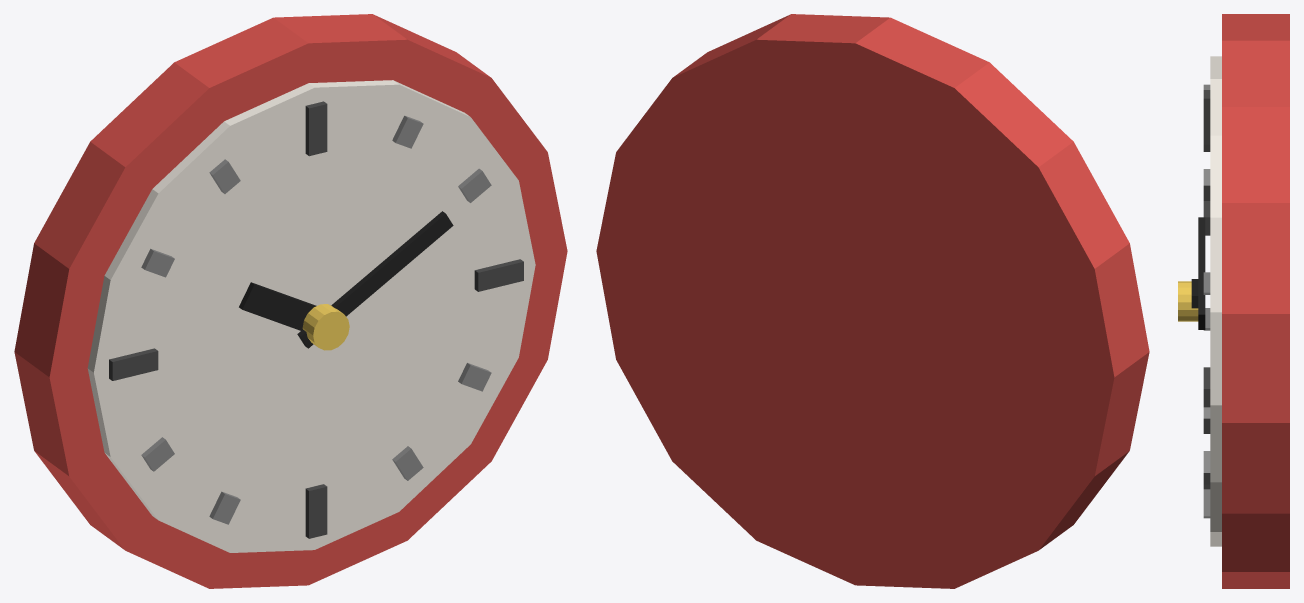
File: wall_clock.glb
3 views of the same model, side by side, from view 1: azimuth 30°, elevation 25°; view 2: azimuth 150°, elevation 25°; view 3: azimuth 270°, elevation 25° (orthographic). The views are drawn at different scales.
Visible parts, largest first — view 1: wall_clock; view 2: wall_clock; view 3: wall_clock.
Boxes of the visible parts, <box> form: wall_clock: <box>14,14,567,588</box>; wall_clock: <box>596,14,1149,588</box>; wall_clock: <box>1178,14,1289,588</box>.
Bounding box in the file's own units: 0.34 × 0.34 × 0.066.
Materials: 1 (1 with a texture image).
